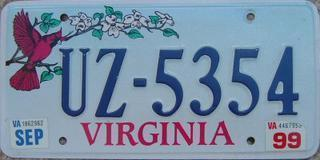placa de veiculo: (5, 1, 314, 156)
